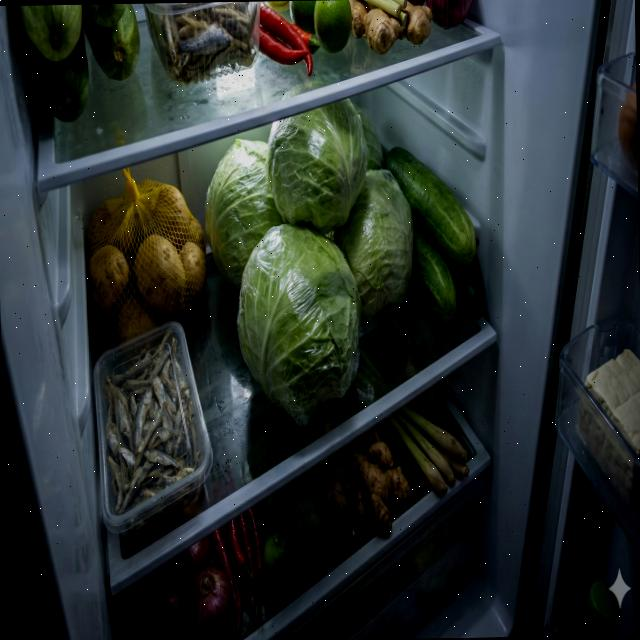anchovies: (100, 325, 204, 523), (158, 1, 258, 85)
cabbage: (235, 223, 364, 415), (265, 96, 369, 237), (336, 168, 416, 328), (203, 138, 284, 292)
chili: (212, 508, 264, 634), (258, 0, 321, 78)
cucumber: (383, 143, 486, 324), (20, 3, 140, 123)
ginger: (351, 0, 433, 55)
lemongrass: (312, 424, 411, 536), (386, 402, 471, 498)
lime: (289, 0, 353, 54), (260, 528, 294, 596), (289, 496, 324, 562)
potato: (84, 180, 208, 347)
